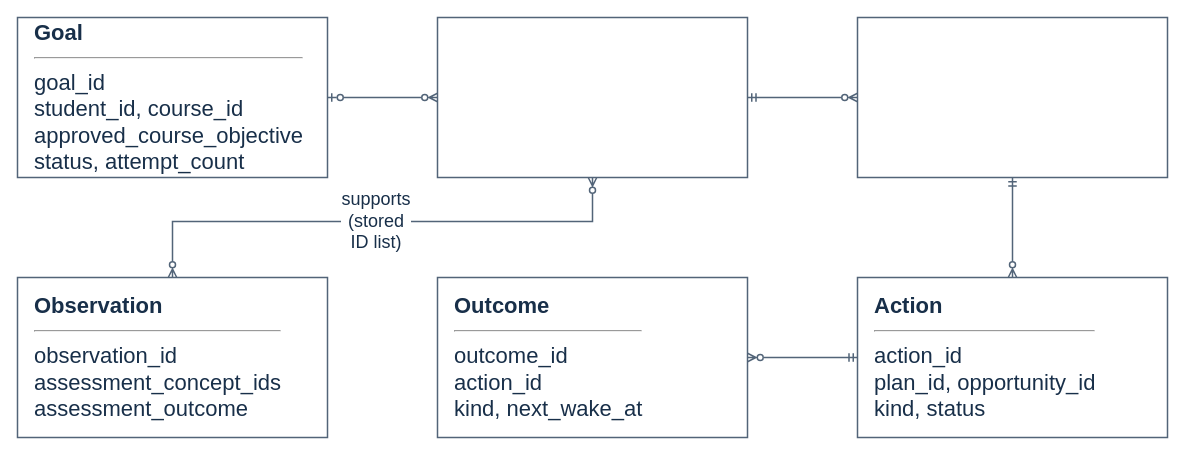
This 1186x456 diagram has some shape labels left out. The box of each missing label's shape, as (x1, y1, x2, y2) in pixels:
Opportunity opportunity_id goal_id (optional) idempotency_key, event_kind: (436, 16, 748, 178)
Plan plan_id opportunity_id action, reason_code: (856, 16, 1168, 178)
